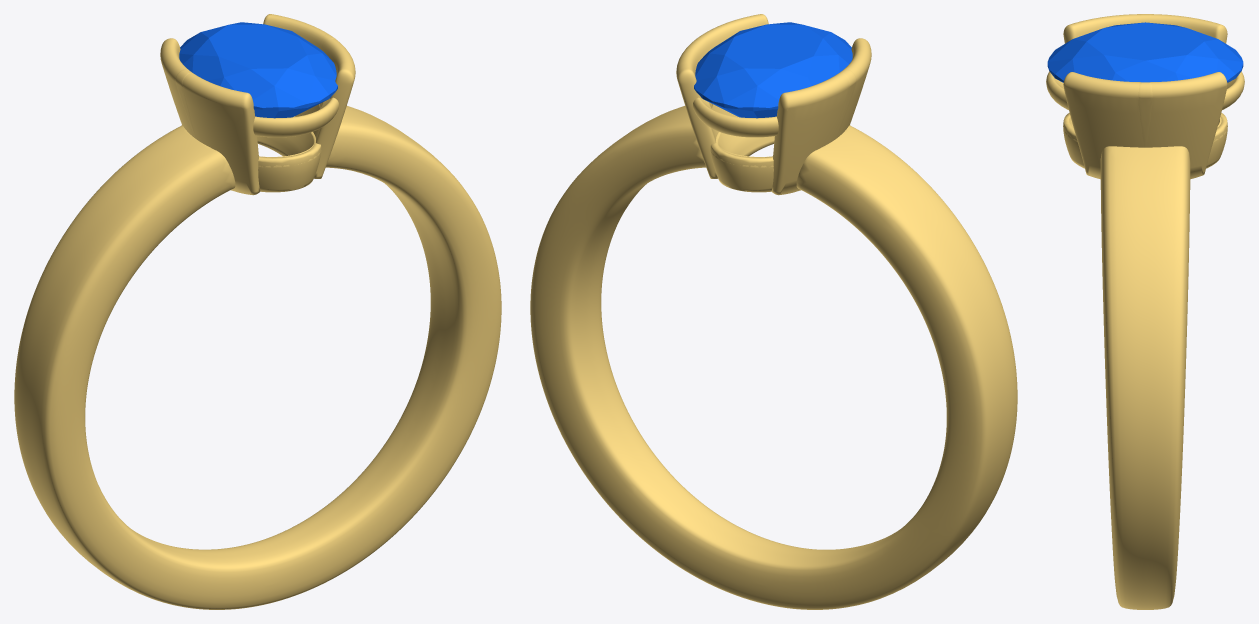
Rendered from bluesapphire-oval-yellowgold-halfmoonbezel-straighttaperedband-nosidestones.glb.
The picture shows the model from 3 angles, left to right: view 1: azimuth 30°, elevation 25°; view 2: azimuth 150°, elevation 25°; view 3: azimuth 270°, elevation 25°; orthographic projection.
Parts seen in each view (by area): view 1: metal, stone; view 2: metal, stone; view 3: metal, stone.
Part boxes in pixels (x1=…): metal: x1=14, y1=14, x2=501, y2=609; stone: x1=179, y1=22, x2=337, y2=118; metal: x1=530, y1=14, x2=1017, y2=609; stone: x1=694, y1=22, x2=852, y2=118; metal: x1=1046, y1=14, x2=1244, y2=609; stone: x1=1047, y1=22, x2=1243, y2=82.
Size of the model in its own units: 20.51 by 23.41 by 7.75.
